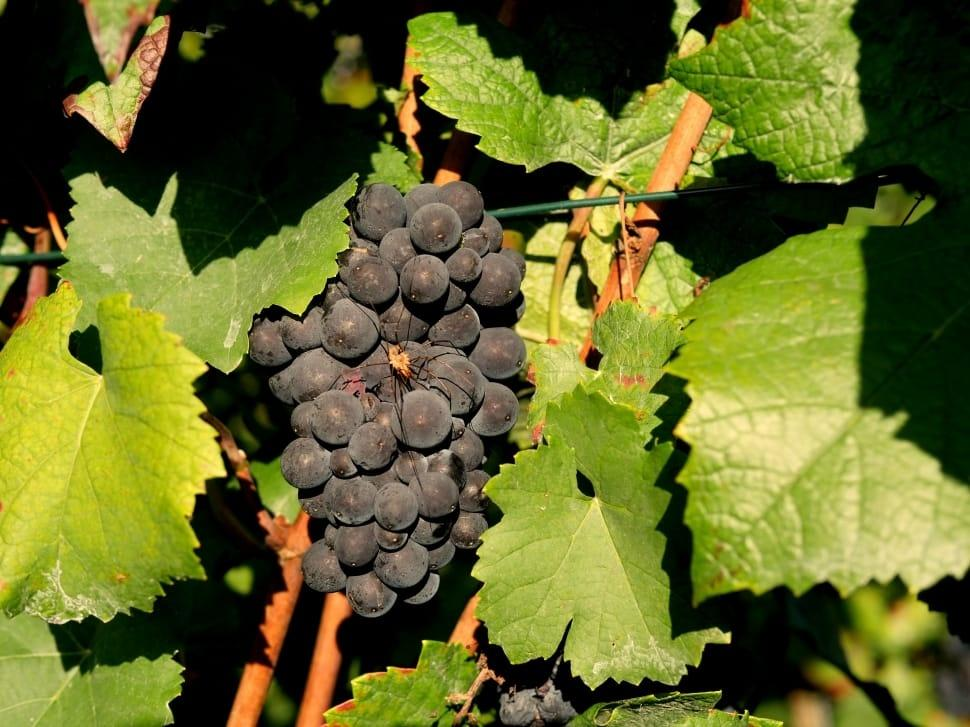Grape Rotten: (247, 178, 529, 619)
